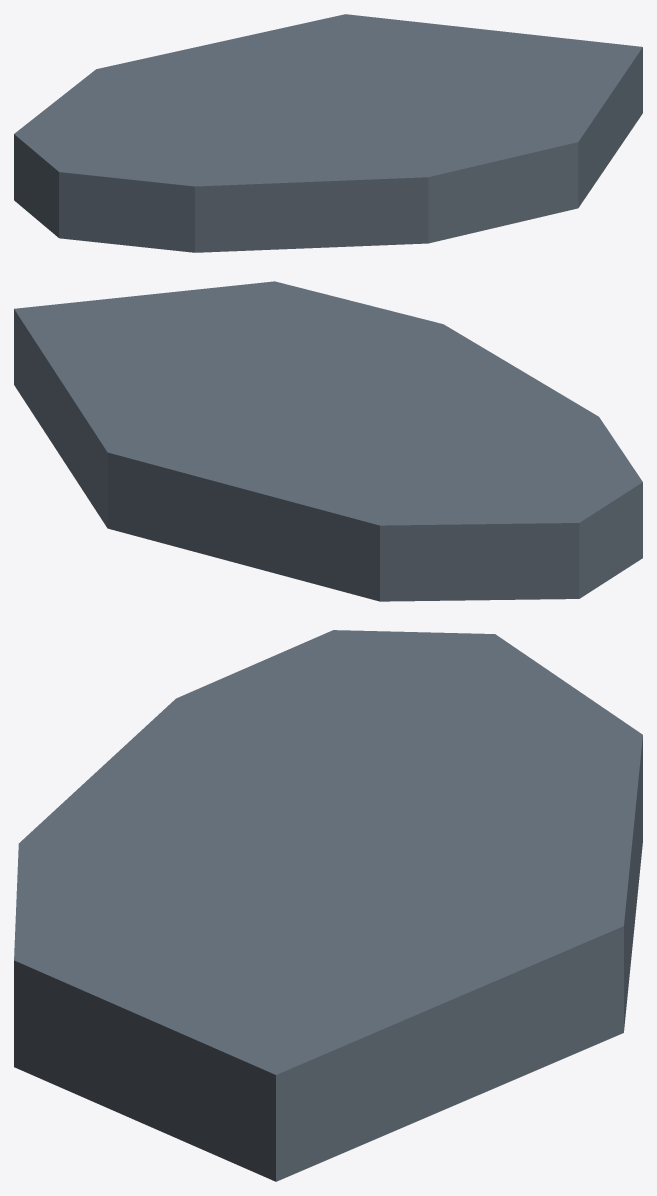
Rendered from rock3.dae.
The picture shows the model from 3 angles, top to bottom: view 1: azimuth 30°, elevation 25°; view 2: azimuth 150°, elevation 25°; view 3: azimuth 270°, elevation 25°; orthographic projection. The views are drawn at different scales.
Parts seen in each view (by area): view 1: rock3; view 2: rock3; view 3: rock3.
Boxes of the visible parts, x1,y1,x2,y2 form: rock3: [14, 14, 642, 252]; rock3: [14, 281, 642, 601]; rock3: [14, 630, 642, 1181].
Size of the model in its own units: 1.21 by 0.7231 by 0.1355.
